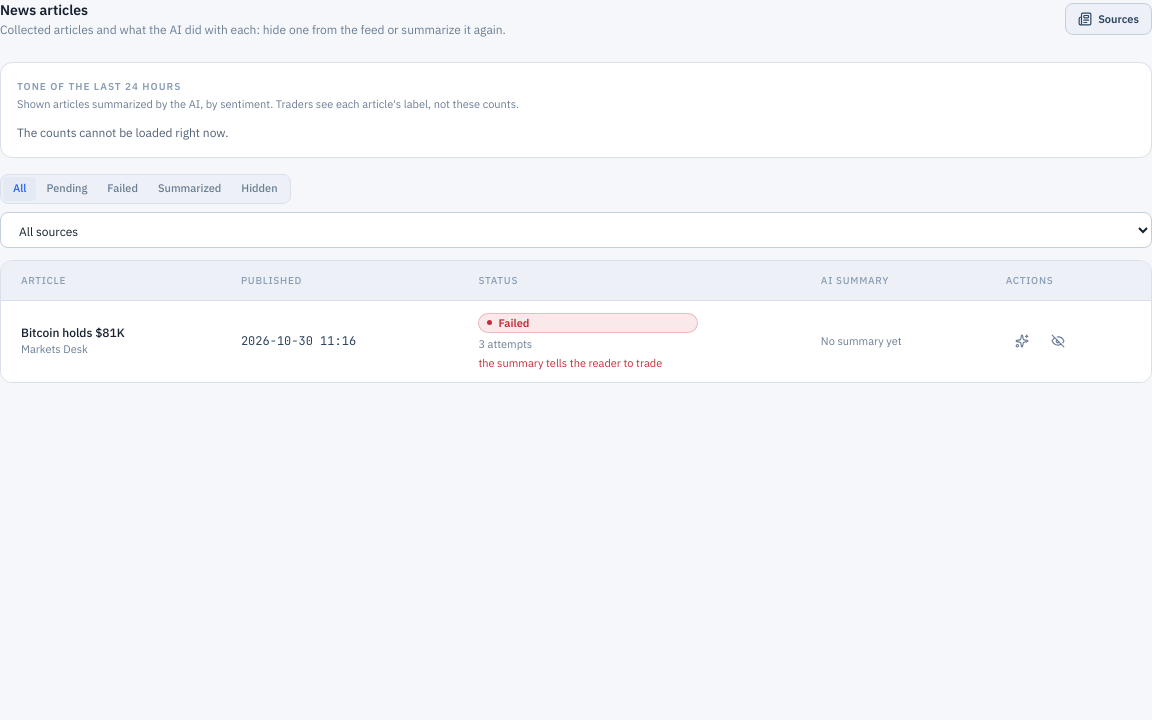
it: news articles console (T-080b, D-124) › filters by status, hides after asking, and reports a refused summary
The image size is (1152, 720).
Expected: the text "3 attempts" is shown, [478,337,532,351]
Expected: the text "the summary tells the reader to trade" is shown, [478,356,662,370]
Click the radio button labelled "Failed".
click(123, 188)  # box [97,176,148,200]
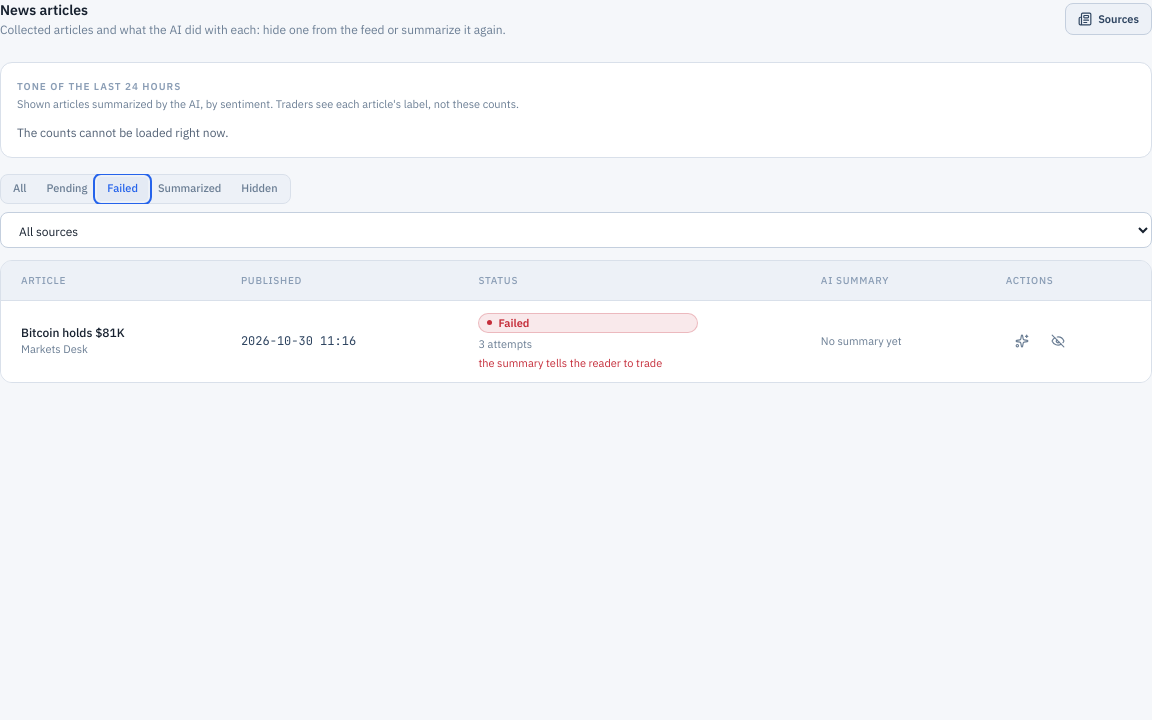
Select "Markets Desk" in the dropdown named "Source" at [576, 230], box [0,212,1151,248]
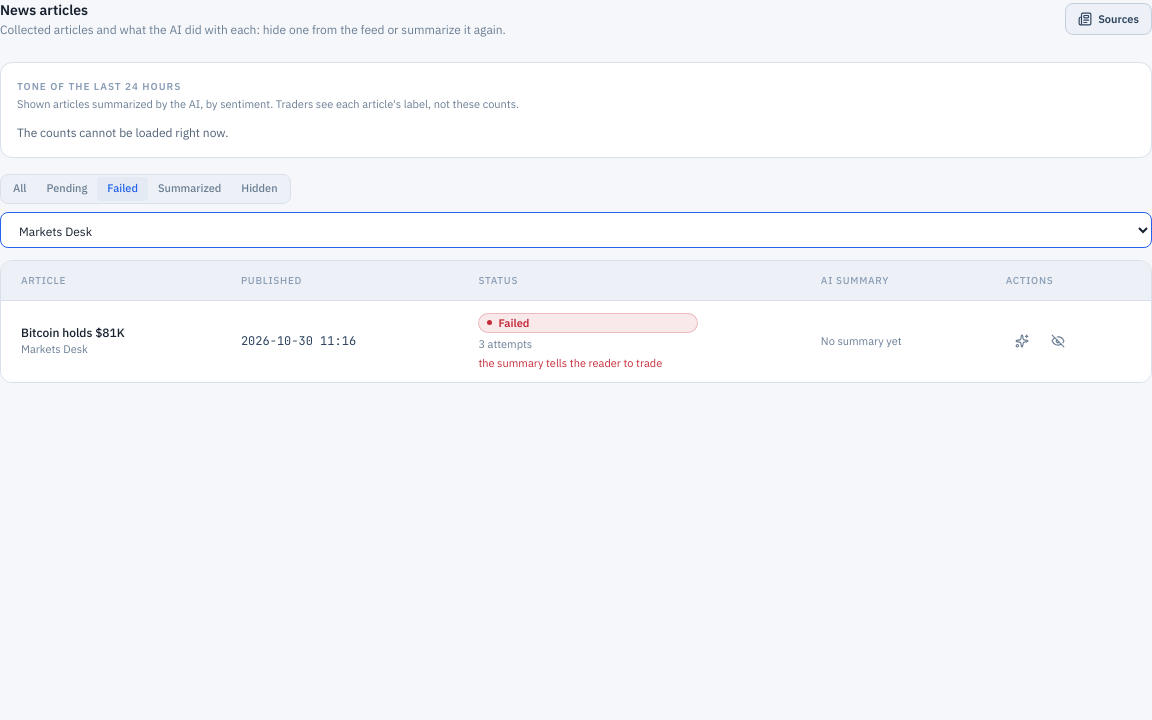
Click the button named "Hide Bitcoin holds $81K".
click(1058, 342)  # box [1042,326,1074,358]
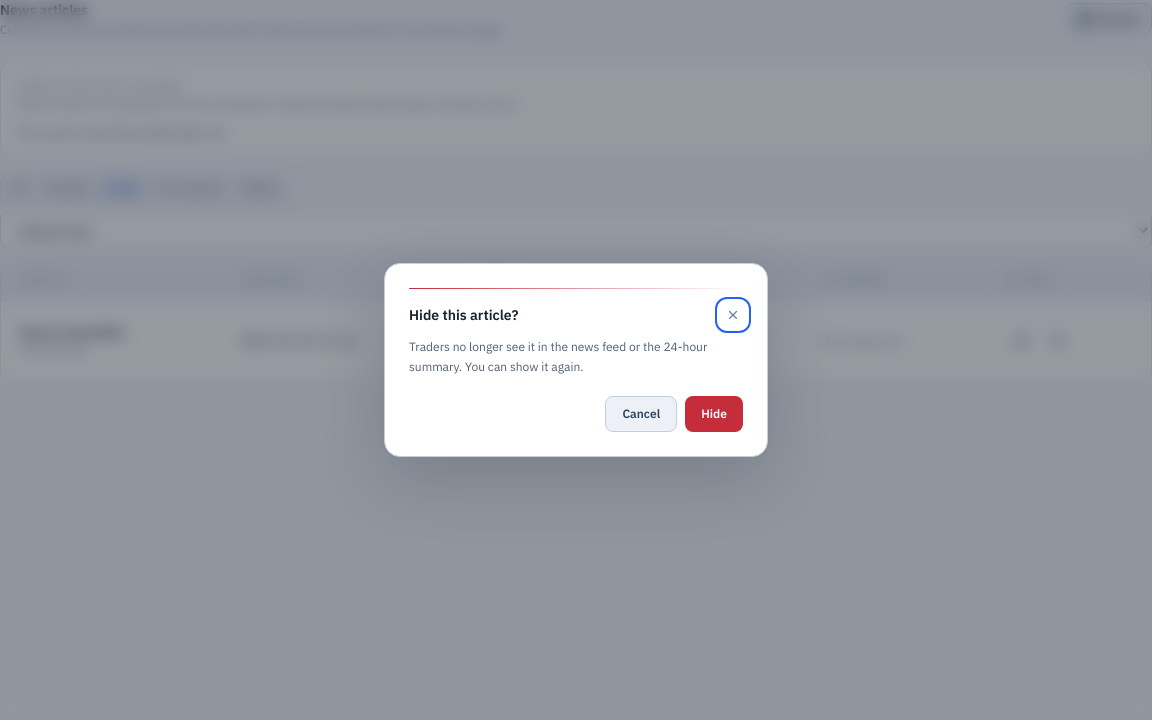
Click the button "Hide".
click(714, 414)  # box [685,396,743,432]
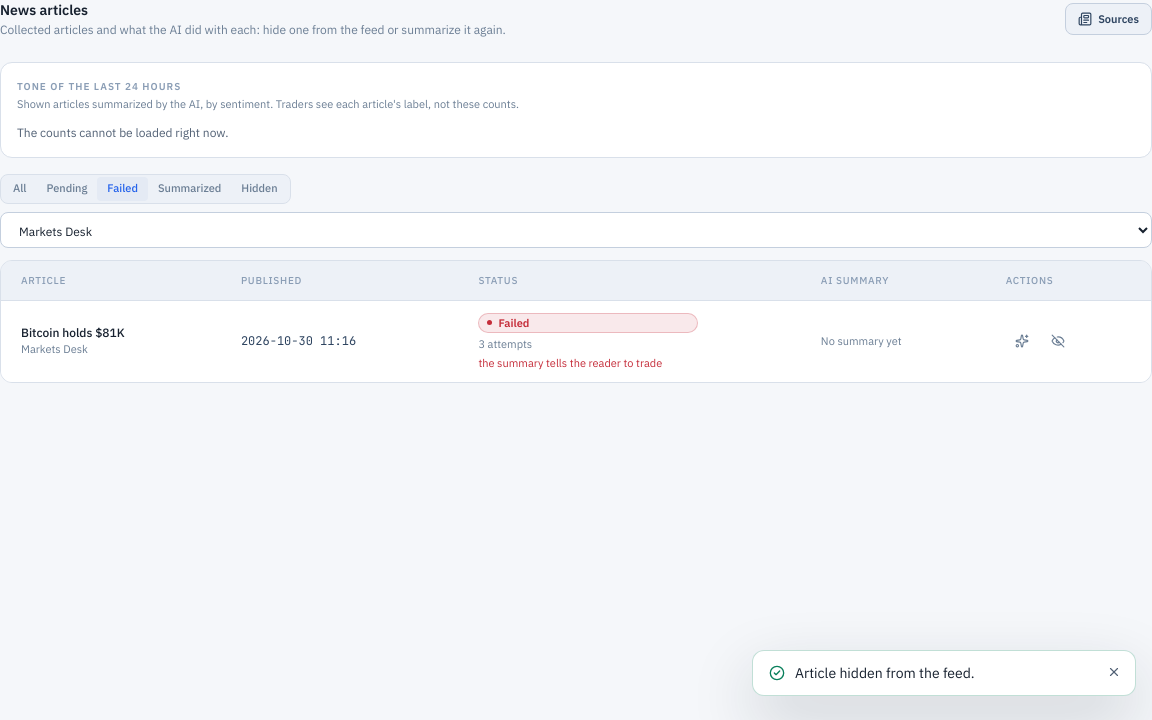
Now the text "Article hidden from the feed." is shown, box [795,664,975,682]
Click the button named "Summarize Bitcoin holds $81K again".
click(1022, 342)  # box [1006,326,1038,358]
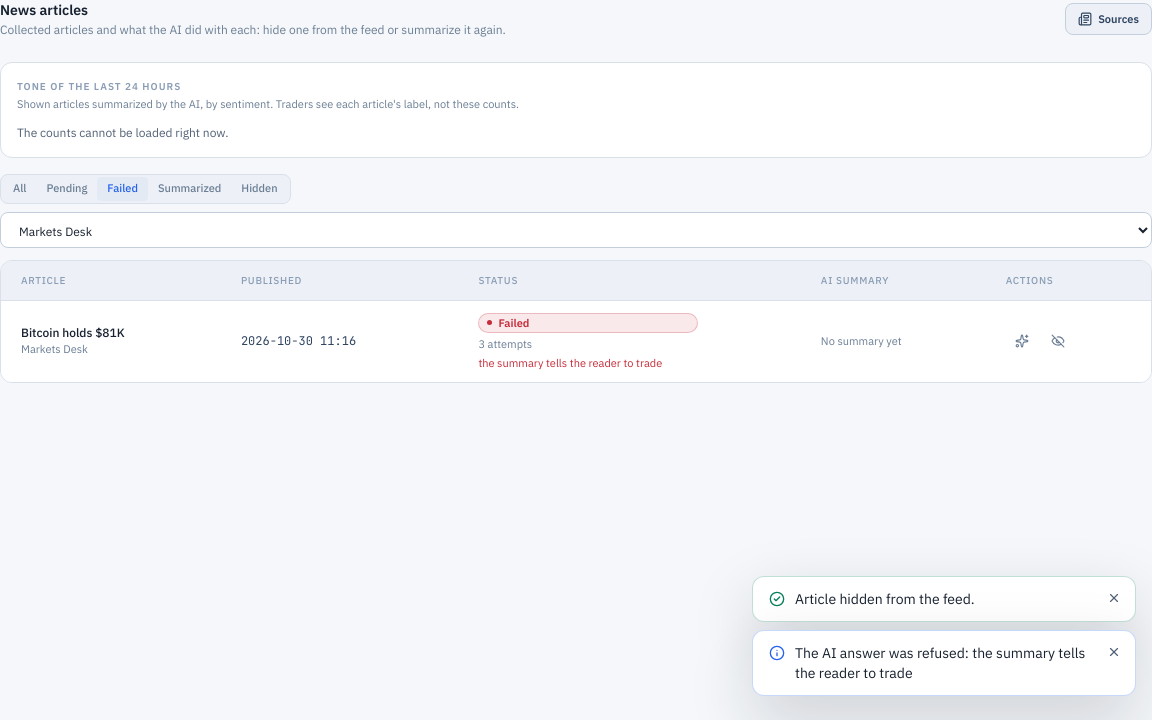
Now the text "The AI answer was refused: the summary tells the reader to trade" is shown, box [795,643,1095,683]
